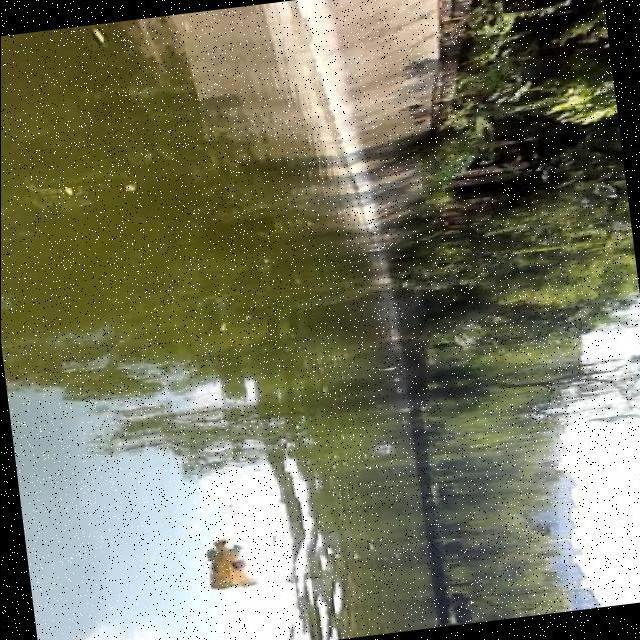Bottle: (209, 524, 259, 600)
